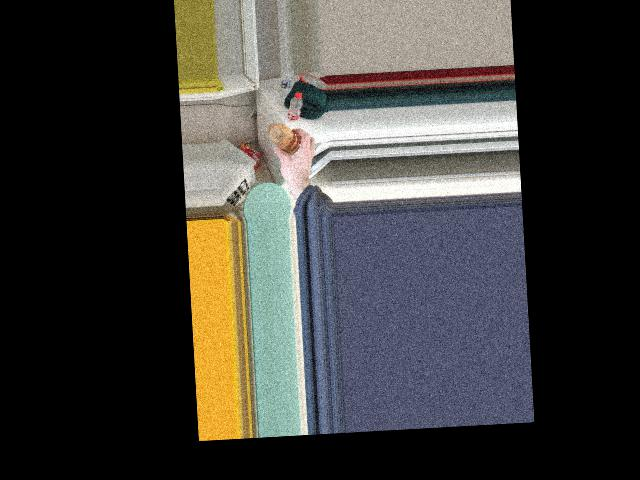sweet_potato: (269, 122, 299, 157)
